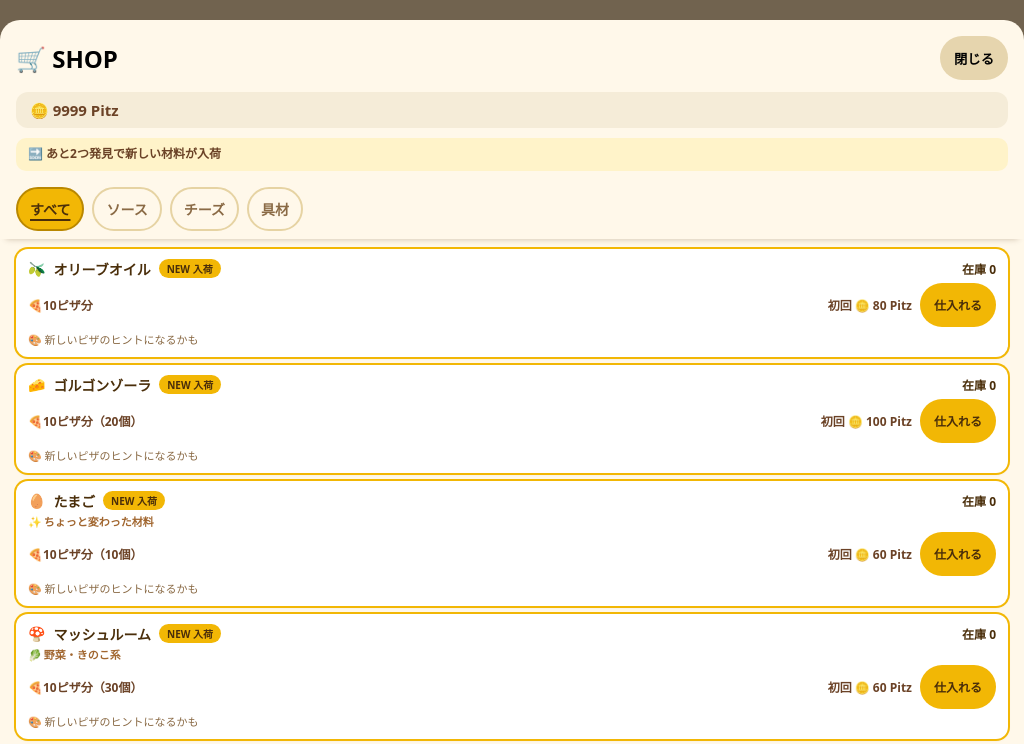
Scenario: the major tabs come from the listed rows only › shows only the majors that hold a listed material; 「すべて」 is first; the family row appears only under 具材
The width and height of the screenshot is (1024, 744).
Click the button "具材".
click(275, 209)  # box [247, 187, 303, 231]
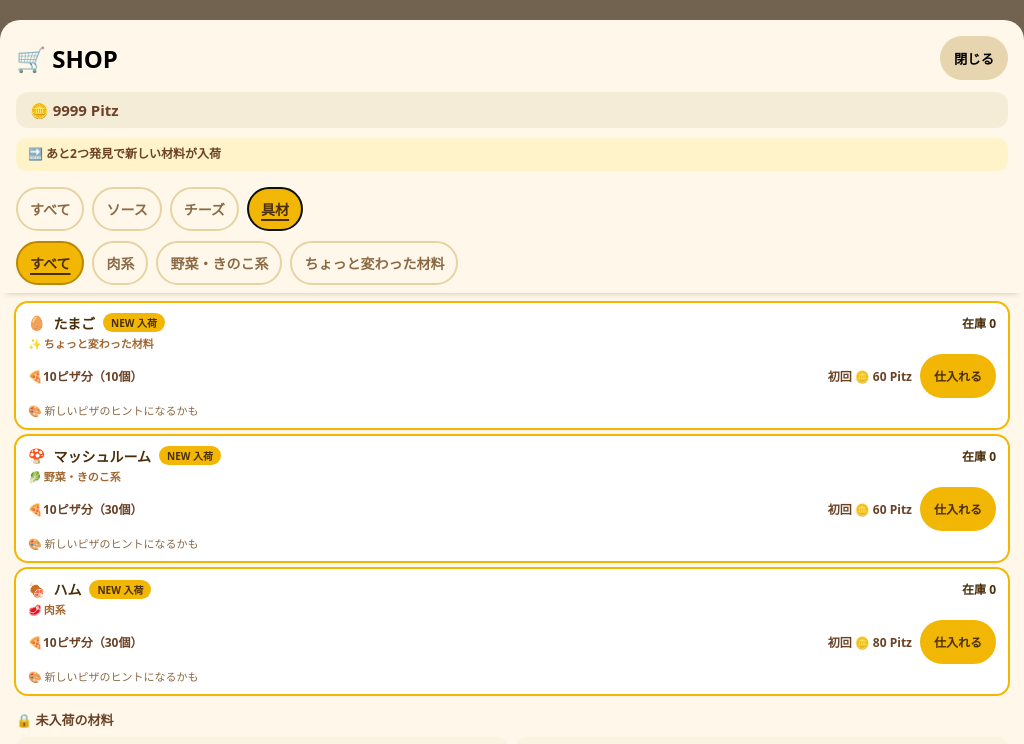
Click the button "チーズ".
click(204, 209)  # box [170, 187, 239, 231]
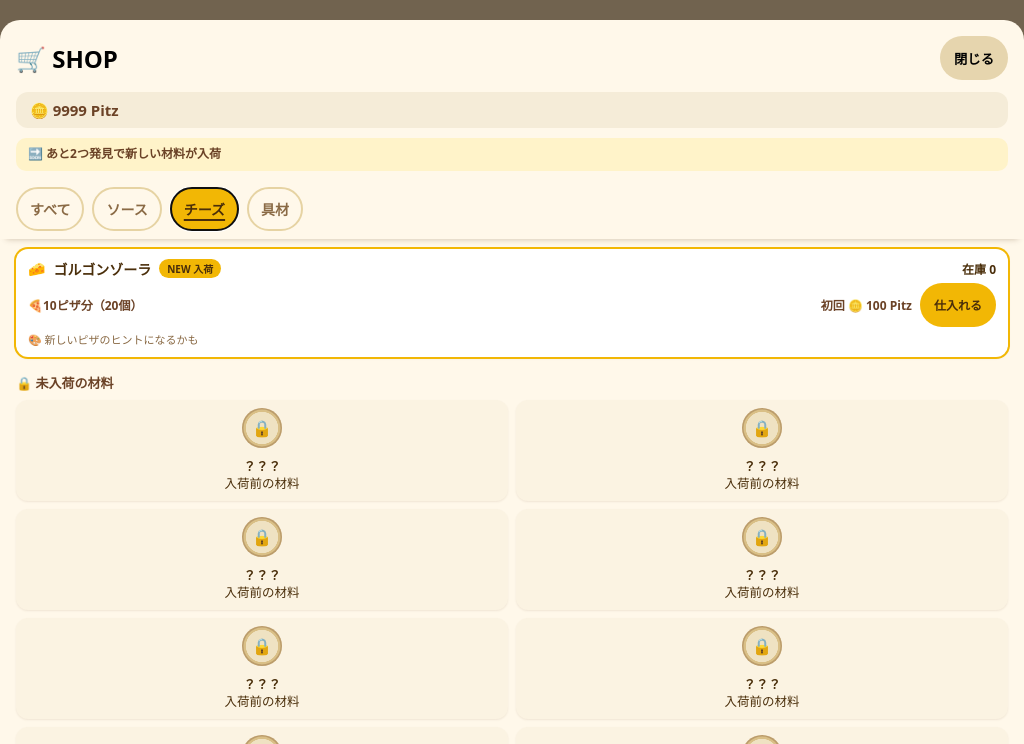
Check: the element "具材の分類" is gone
